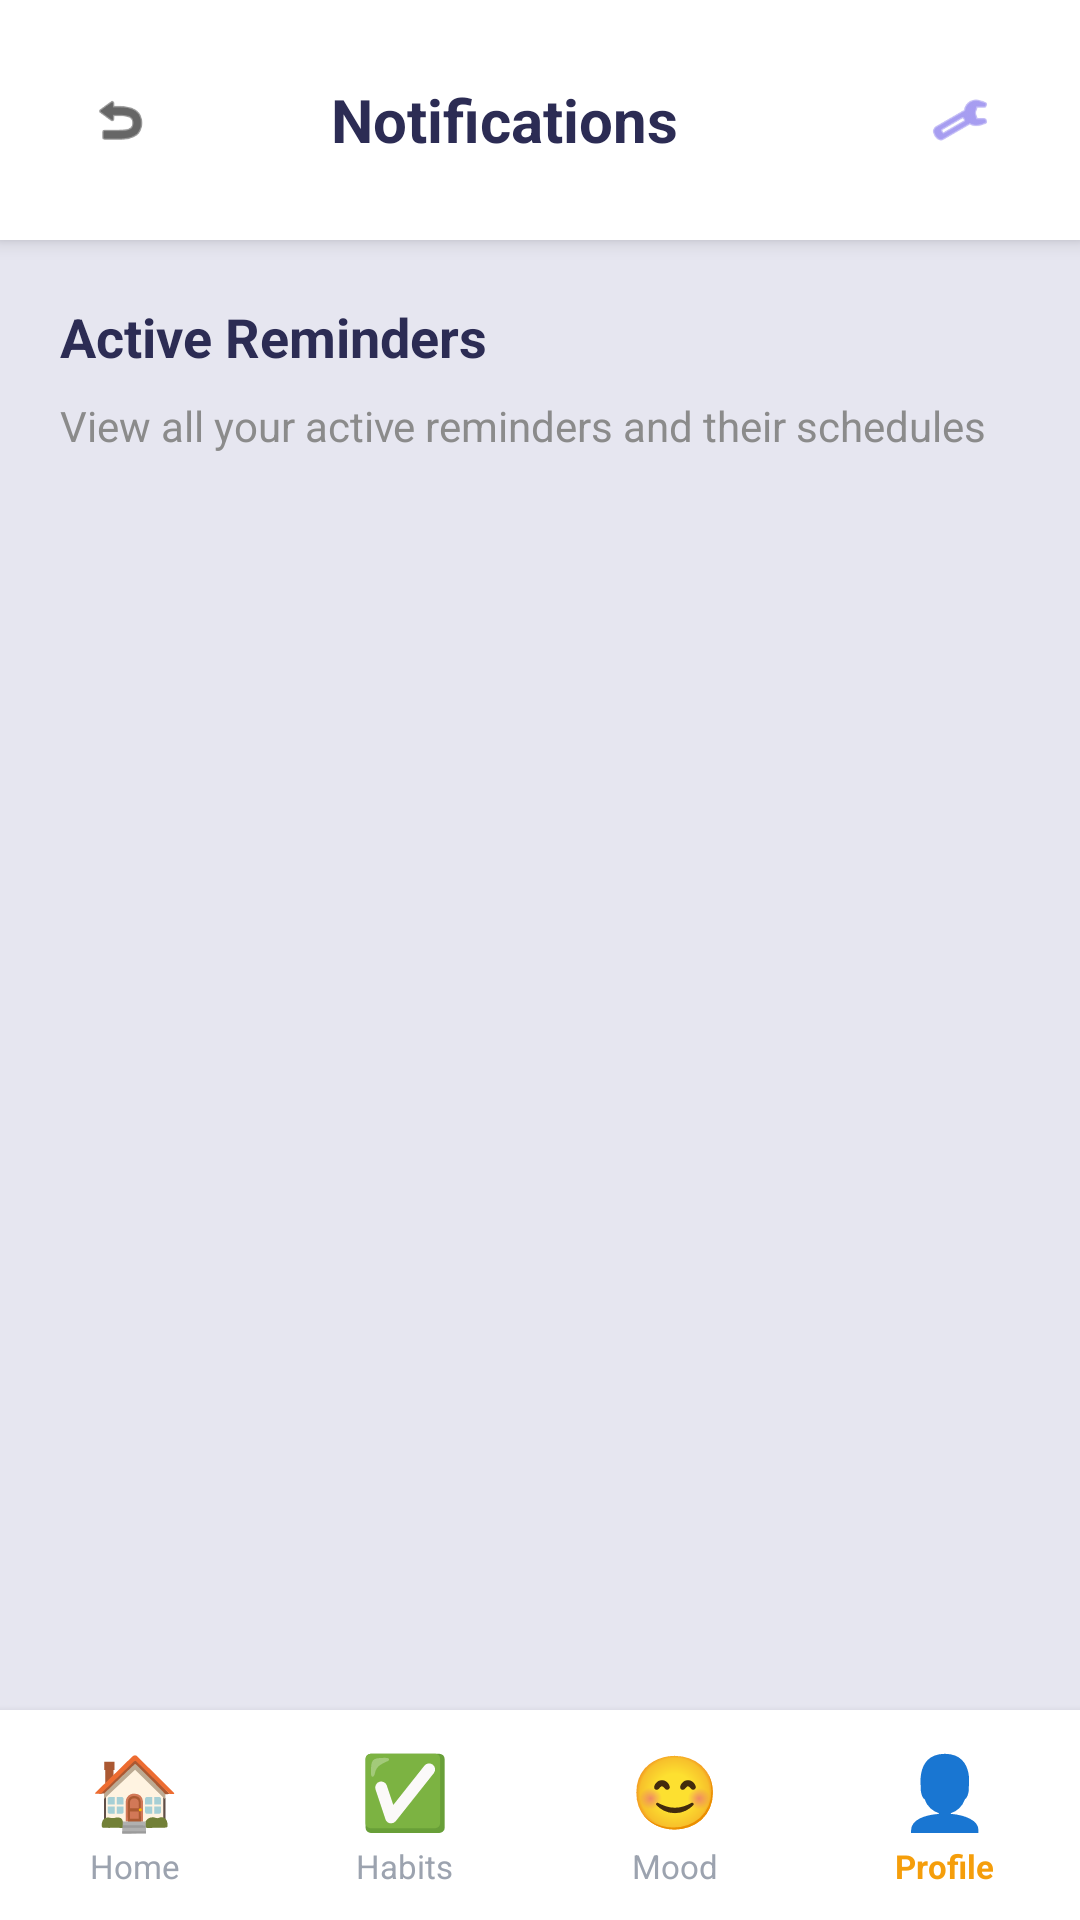

Icons on this 1080×1920 Android screen, each with its box as (x1, y1, x2, y2):
manage: (933, 99, 987, 141)
revert: (99, 101, 143, 140)
